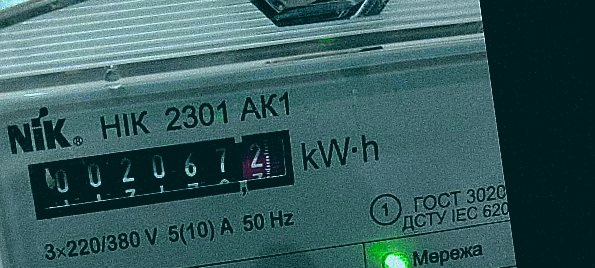0: (49, 164, 71, 196), (145, 149, 167, 179), (83, 158, 104, 189)
2: (244, 138, 266, 170), (116, 153, 136, 184)
6: (178, 147, 200, 179)
7: (211, 143, 231, 175)
screen: (11, 113, 312, 234)
